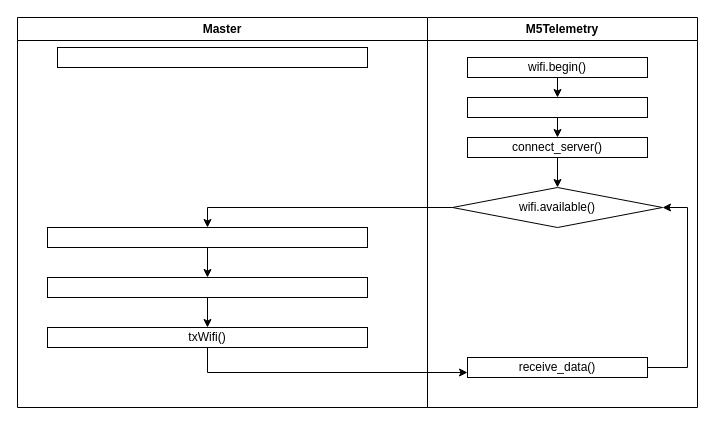
Image size: 715x425. Some labels were removed from this diagram. Each missing label, with the centre of its shape:
"commandLookupTable[cmdId](rxBuffer)" goes at point (207, 287).
"create_server()" goes at point (212, 57).
"rxWifi()" goes at point (207, 237).
"scan()" goes at point (557, 107).
